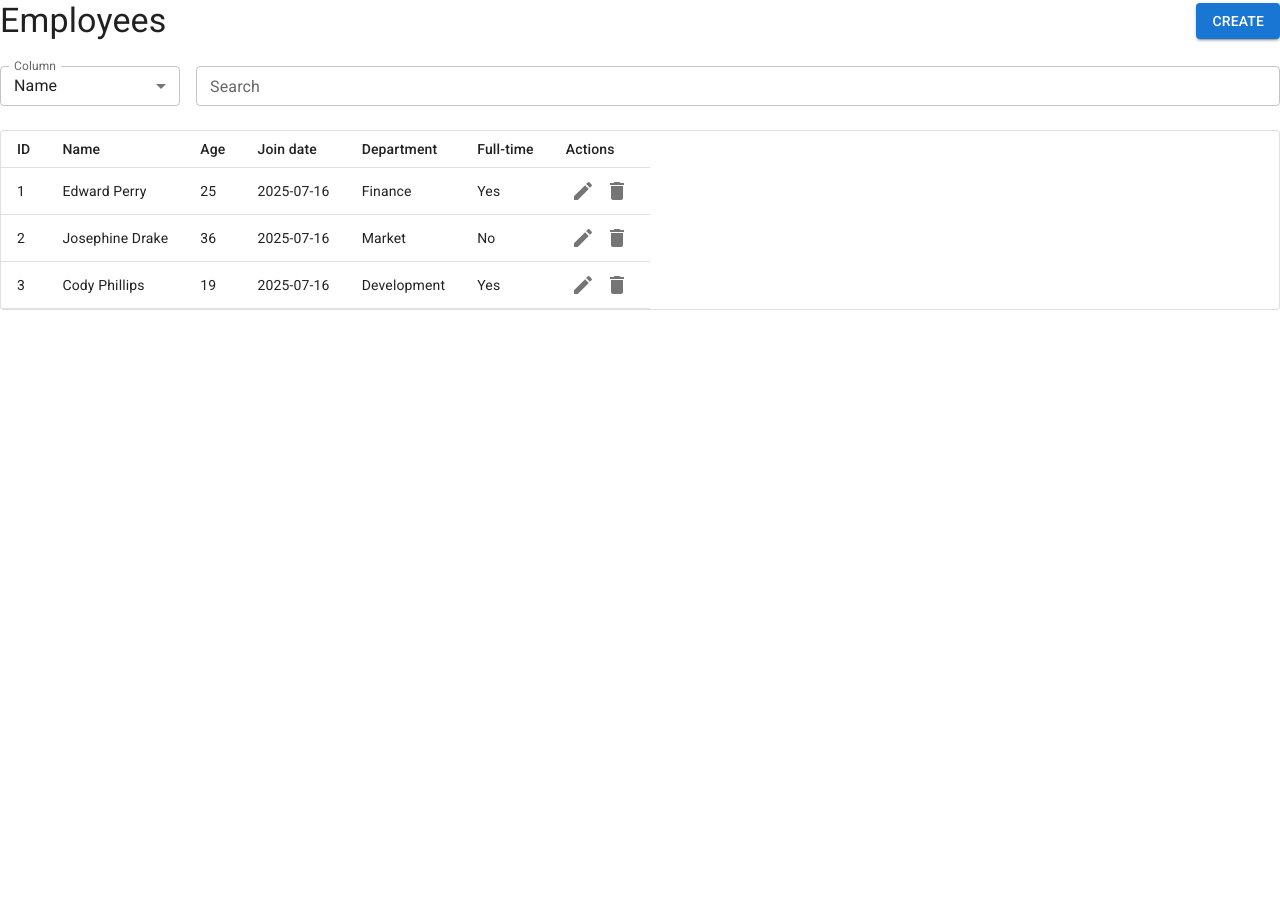
Scenario: EmployeeListPage › 削除ボタンだけでは従業員は消えない
The image size is (1280, 900).
expect the cell "Edward Perry" is shown: met, box x1=46 y1=168 x2=184 y2=214
What coordinates should you click on to do the following:
click the button named "Delete Edward Perry"
I would click on:
 (617, 191)
Its box is x1=600 y1=174 x2=634 y2=208.
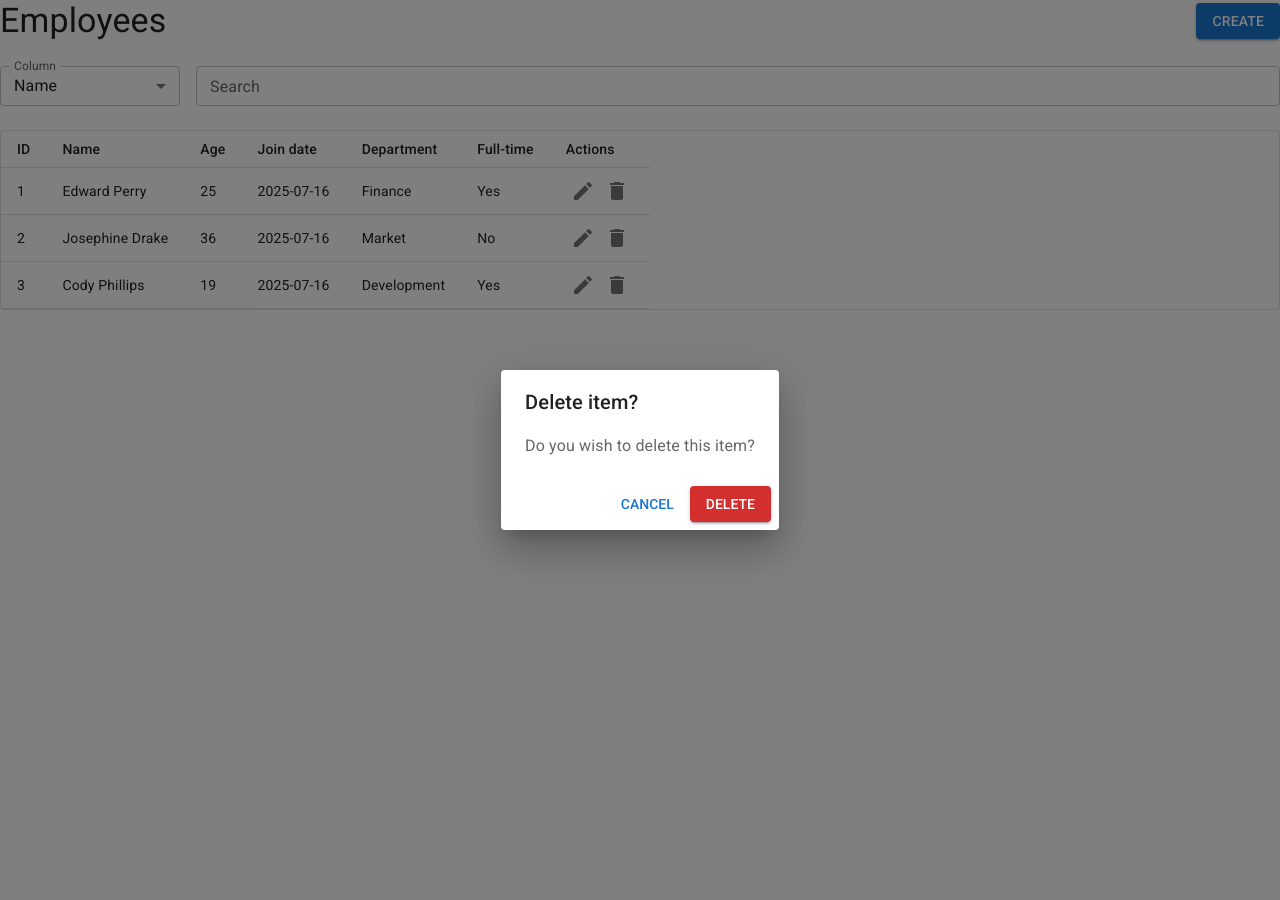
expect the cell "Edward Perry" is shown: met, box x1=46 y1=168 x2=184 y2=214
expect the dialog "Delete item?" is shown: met, box x1=501 y1=370 x2=779 y2=530
